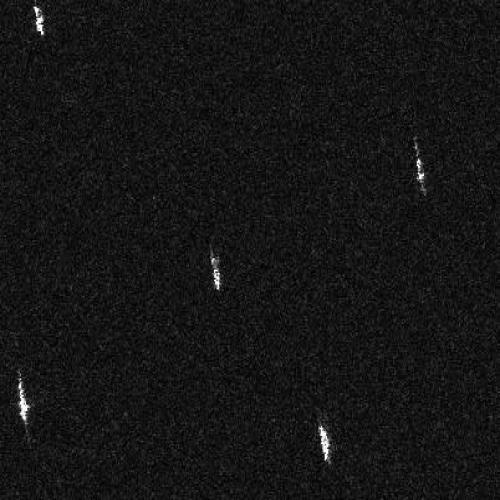ship: (16, 373, 30, 428), (315, 423, 333, 465), (209, 251, 222, 292), (414, 148, 426, 191), (31, 4, 46, 38)
